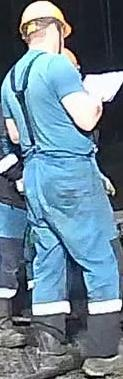helmet: (18, 0, 74, 35)
